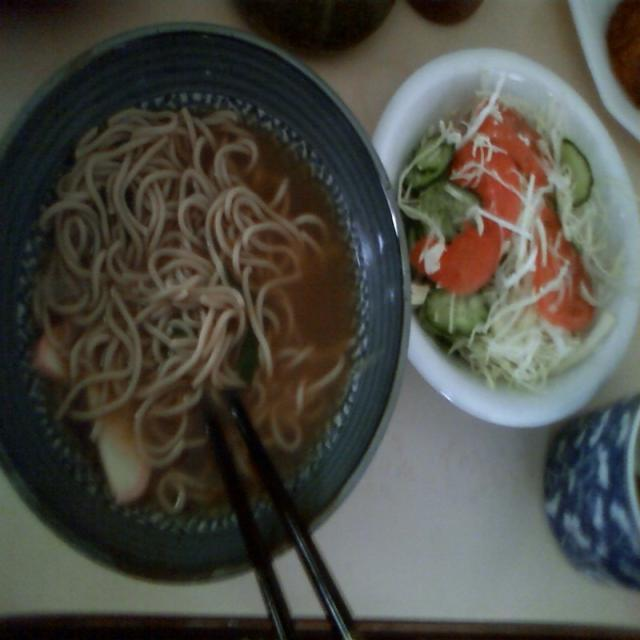Green Salad: (394, 88, 629, 394)
